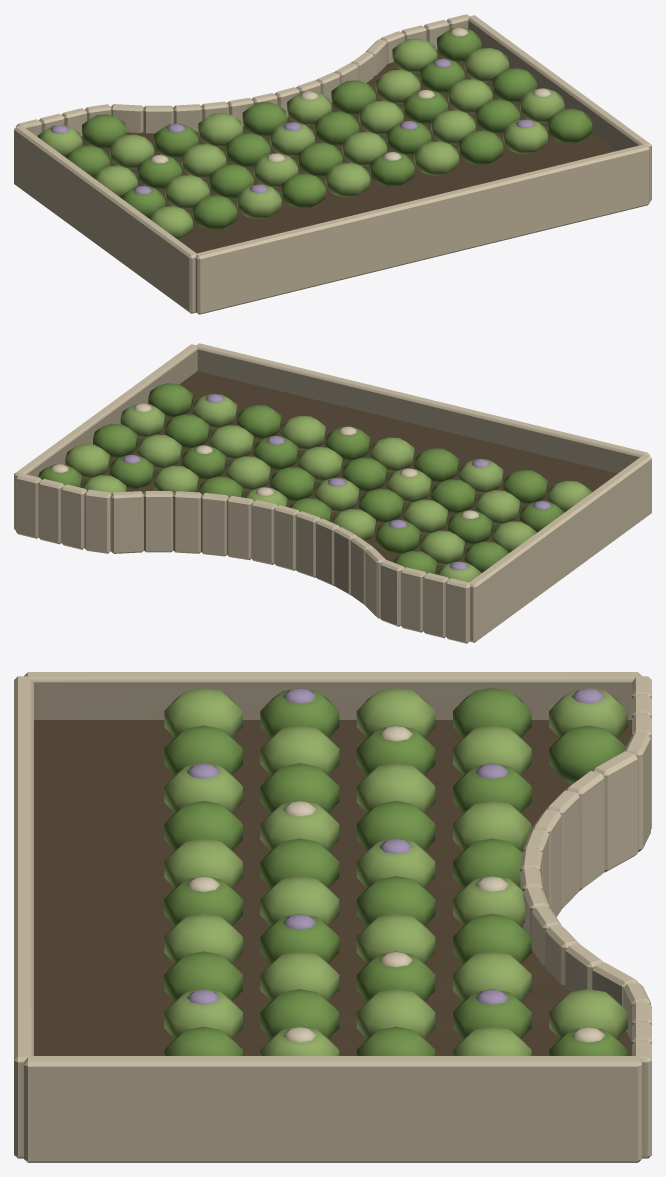
File: mp_keeper_flowerbed.glb
The picture shows the model from 3 angles, top to bottom: view 1: azimuth 30°, elevation 25°; view 2: azimuth 150°, elevation 25°; view 3: azimuth 270°, elevation 25°; orthographic projection. The views are drawn at different scales.
Parts seen in each view (by area): view 1: mp_keeper_flowerbed; view 2: mp_keeper_flowerbed; view 3: mp_keeper_flowerbed.
Boxes of the visible parts, x1=… form: mp_keeper_flowerbed: x1=14, y1=14, x2=651, y2=314; mp_keeper_flowerbed: x1=14, y1=343, x2=651, y2=643; mp_keeper_flowerbed: x1=14, y1=672, x2=651, y2=1162.
Size of the model in its own units: 3.48 by 0.445 by 2.39.
